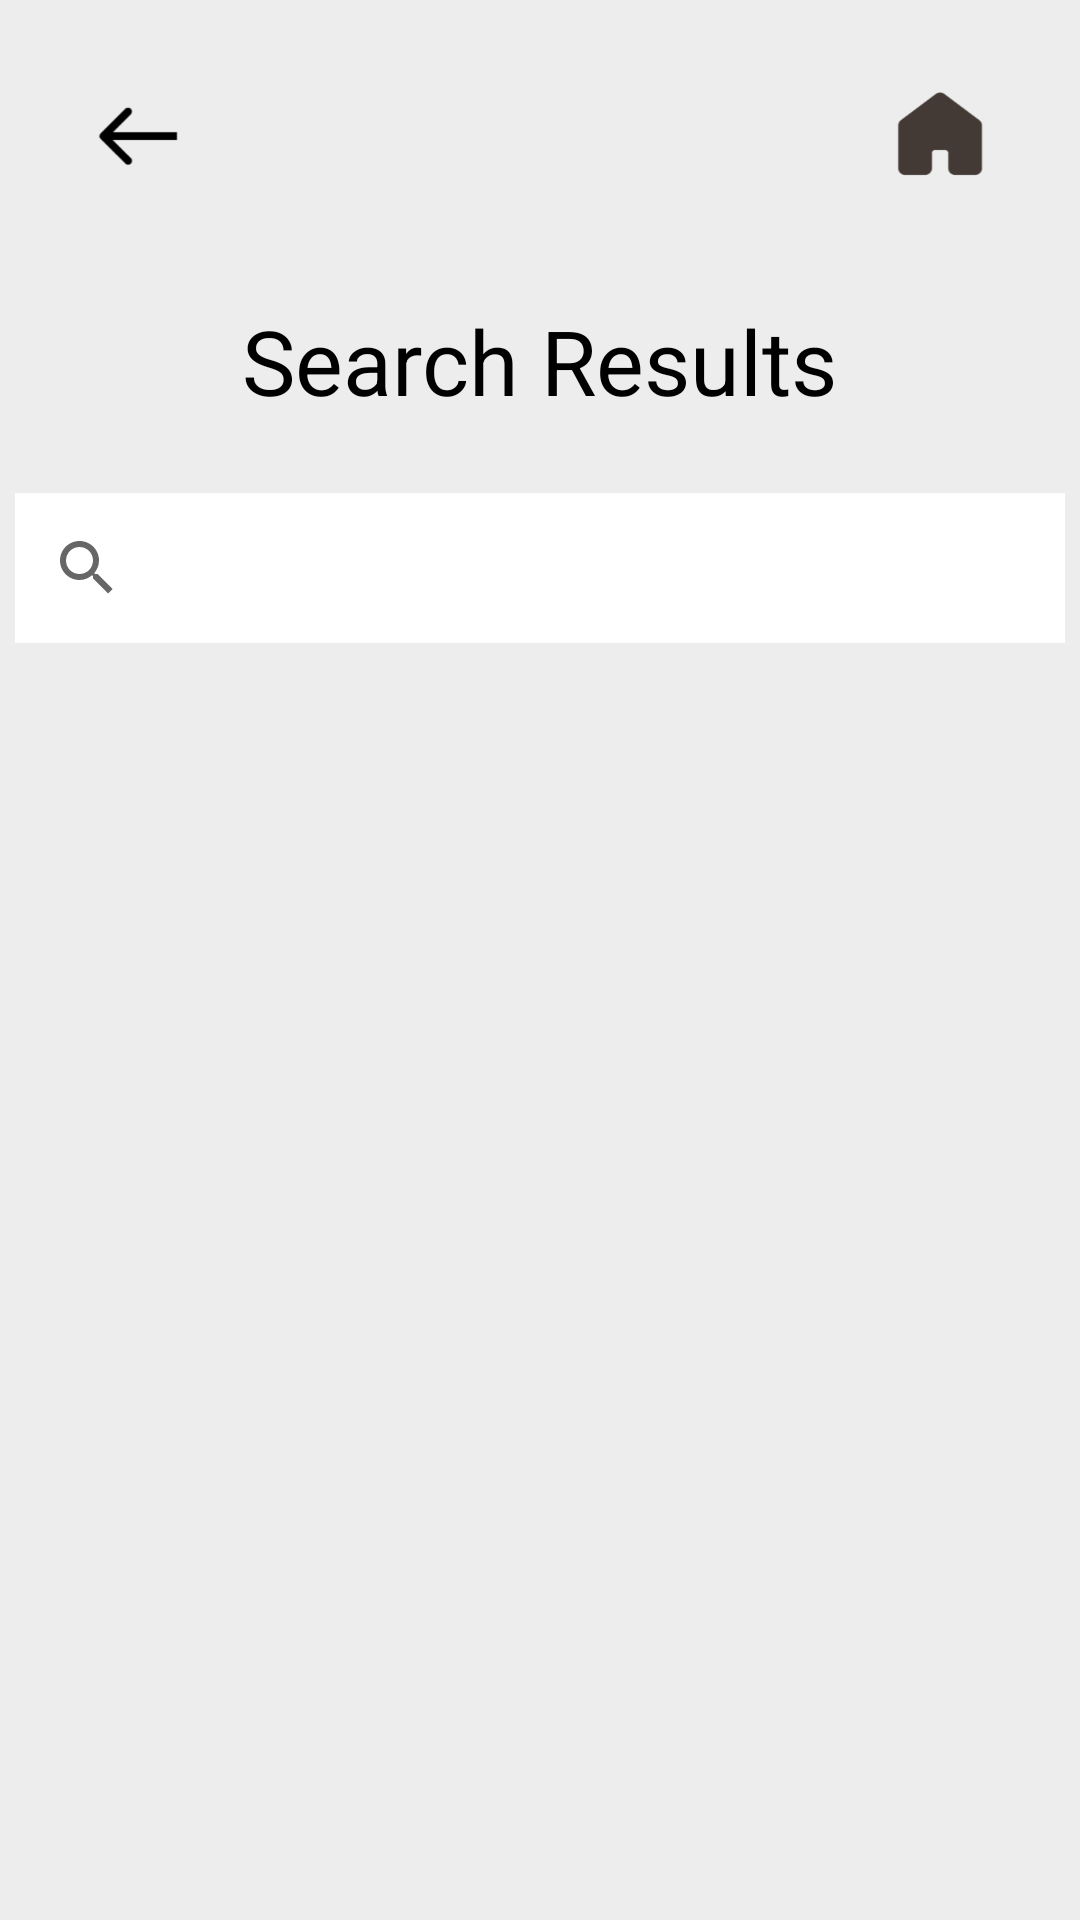

Screen size 1080 × 1920. Icon name, then its box in pixels as (x1, y1, x2, y2):
arrow: (99, 107, 178, 165)
home: (898, 92, 983, 175)
